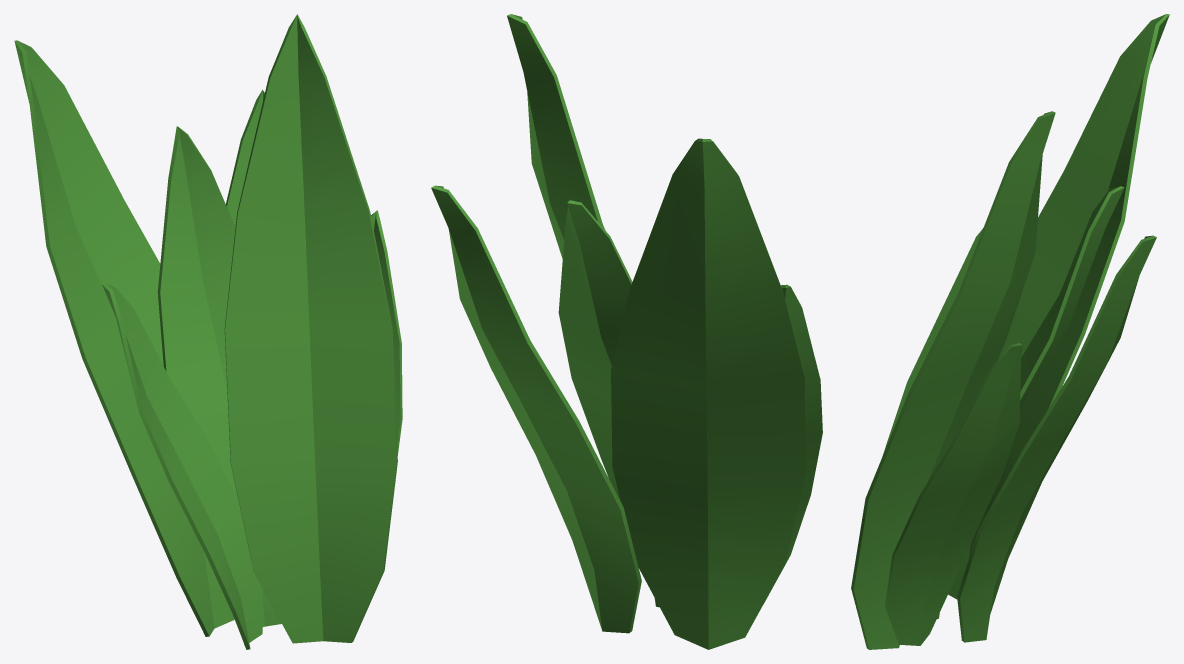
Rendered from Bitki.fbx.
The picture shows the model from 3 angles, left to right: view 1: azimuth 30°, elevation 25°; view 2: azimuth 150°, elevation 25°; view 3: azimuth 270°, elevation 25°; orthographic projection. The views are drawn at different scales.
Visible parts, largest first — view 1: Plane; view 2: Plane; view 3: Plane.
Boxes of the visible parts, x1,y1,x2,y2 form: Plane: (14, 14, 402, 649); Plane: (431, 14, 822, 649); Plane: (851, 14, 1169, 649).
Size of the model in its own units: 43.75 by 75.33 by 38.79.
